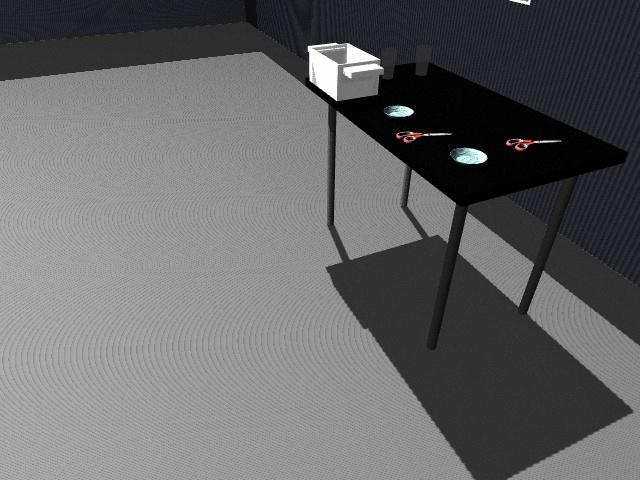cup: (380, 46, 398, 79), (415, 44, 432, 77)
plate: (449, 147, 489, 165), (383, 105, 418, 118)
scissors: (506, 136, 561, 150), (396, 131, 452, 144)
